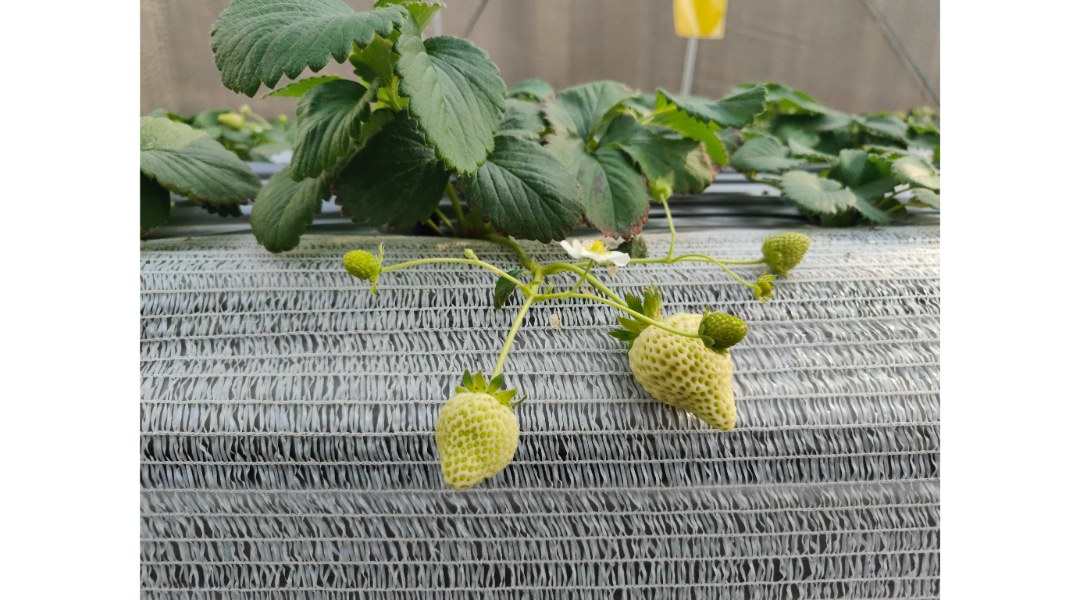berry: (613, 309, 754, 430), (422, 358, 528, 493), (754, 229, 812, 291), (338, 239, 393, 291), (692, 309, 777, 341)
flower: (556, 235, 640, 272)
strain: (581, 288, 693, 339), (401, 246, 520, 290), (489, 307, 533, 376), (683, 246, 755, 271), (657, 207, 673, 275)
